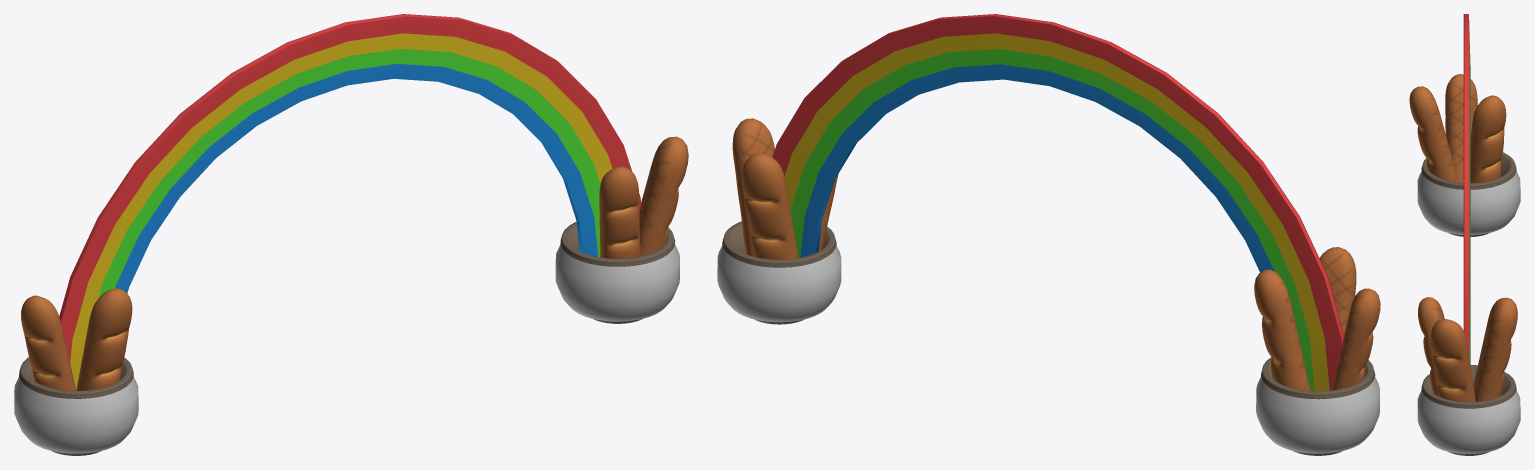
File: gapura lagi.fbx
The picture shows the model from 3 angles, left to right: view 1: azimuth 30°, elevation 25°; view 2: azimuth 150°, elevation 25°; view 3: azimuth 270°, elevation 25°; orthographic projection. The views are drawn at different scales.
Visible parts, largest first — view 1: Cylinder.004, Cylinder.001, Cylinder, Cube.006, Cube.005, Cube.003, Cube.001; view 2: Cylinder.004, Cylinder.001, Cylinder, Cube.004, Cube.002, Cube.001, Cube.005, Cube.006; view 3: Cylinder.001, Cylinder, Cube.004, Cube.005, Cube.002, Cylinder.004, Cube.006, Cube.001, Cube.003.
Part boxes in pixels (<box>): Cylinder.004: <box>59,14,641,389</box>; Cylinder.001: <box>555,222,679,323</box>; Cylinder: <box>14,357,138,455</box>; Cube.006: <box>76,288,132,390</box>; Cube.005: <box>639,136,688,256</box>; Cube.003: <box>599,166,640,258</box>; Cube.001: <box>21,295,76,390</box>; Cylinder.004: <box>772,14,1343,391</box>; Cylinder.001: <box>717,221,841,324</box>; Cylinder: <box>1256,357,1379,455</box>; Cube.004: <box>742,153,798,259</box>; Cube.002: <box>1254,269,1310,390</box>; Cube.001: <box>1331,288,1380,390</box>; Cube.005: <box>732,118,774,256</box>; Cube.006: <box>1310,247,1356,390</box>; Cylinder.001: <box>1417,365,1520,455</box>; Cylinder: <box>1417,152,1520,236</box>; Cube.004: <box>1473,297,1517,401</box>; Cube.005: <box>1430,319,1475,401</box>; Cube.002: <box>1470,95,1506,182</box>; Cylinder.004: <box>1463,14,1470,364</box>; Cube.006: <box>1409,86,1458,182</box>; Cube.001: <box>1445,74,1477,182</box>; Cube.003: <box>1418,297,1444,396</box>.
Size of the model in its own units: 1866 by 966 by 332.
